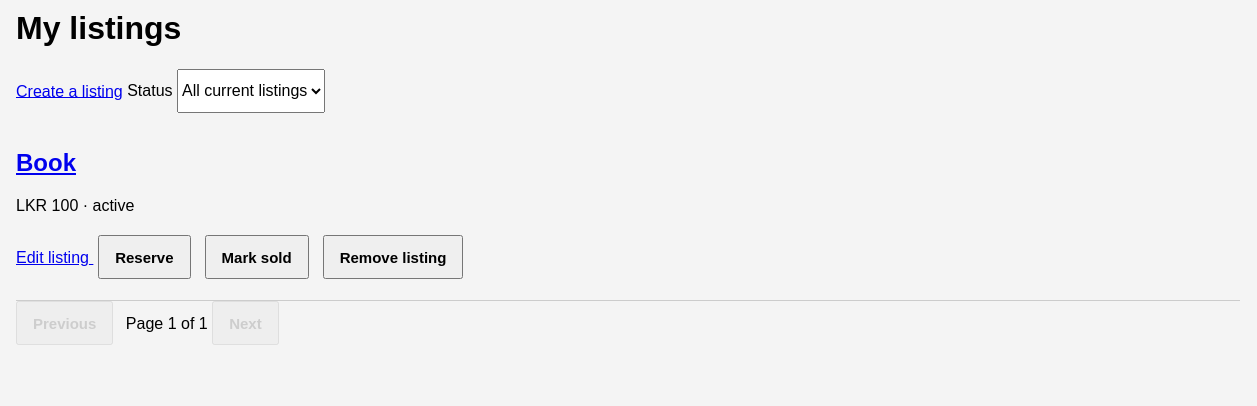
Test: seller dashboard exposes conflicts with reload and does not silently discard them
Later steps or results of the test are not shown.
Expected: the link "Book" is shown, [16,149,76,176]
Step 1. Click the button "Mark sold" → (257, 258), box [205,236,309,280]
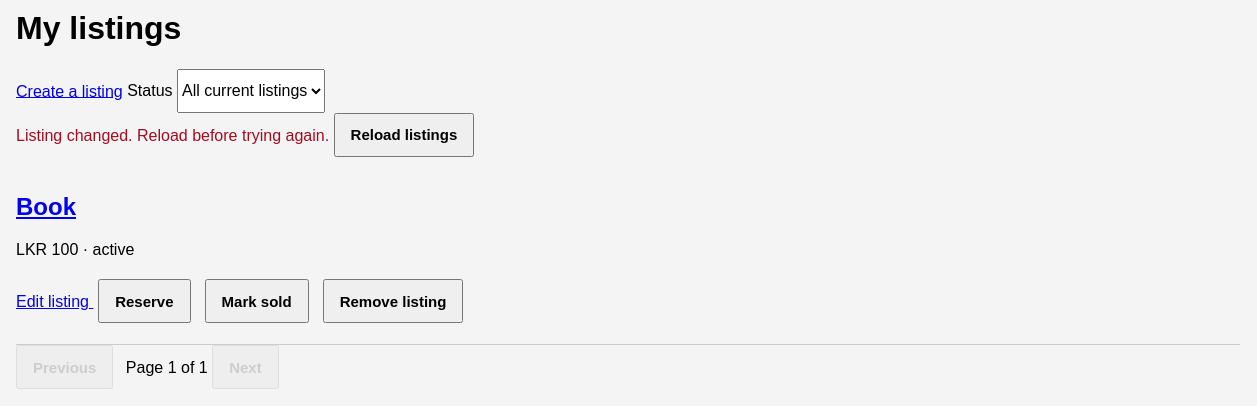
Expected: the message shows "Listing changed", [16,126,329,143]
